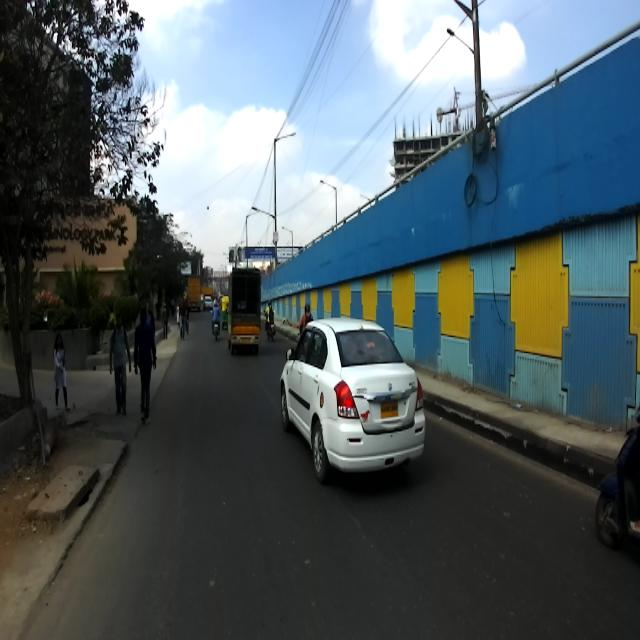auto ahead at: (226, 262, 262, 357)
car ahead at: (276, 310, 432, 501)
person ahead at: (131, 303, 165, 420), (110, 315, 136, 427)
